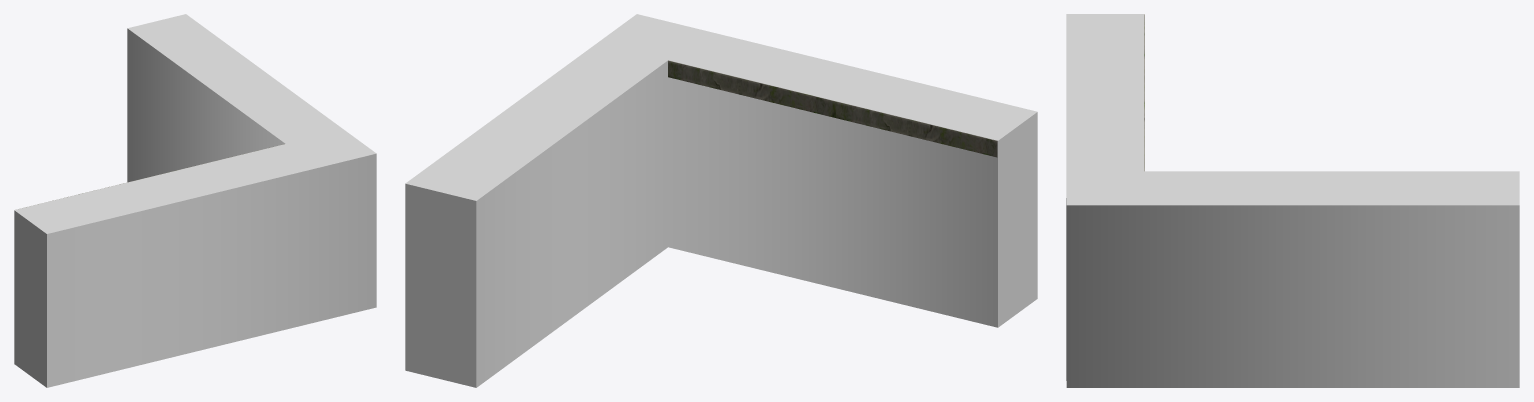
Rendered from baobian_jiangxia_41.FBX.
The picture shows the model from 3 angles, left to right: view 1: azimuth 30°, elevation 25°; view 2: azimuth 150°, elevation 25°; view 3: azimuth 270°, elevation 25°; orthographic projection. The views are drawn at different scales.
Visible parts, largest first — view 1: Box01; view 2: Box01, baobian_jiangxia_41; view 3: Box01.
Boxes of the visible parts, x1,y1,x2,y2 form: Box01: (14, 14, 376, 387); Box01: (405, 14, 1037, 387); baobian_jiangxia_41: (668, 60, 997, 157); Box01: (1066, 14, 1519, 387).
Bounding box in the file's own units: 1128 × 503 × 1130.
